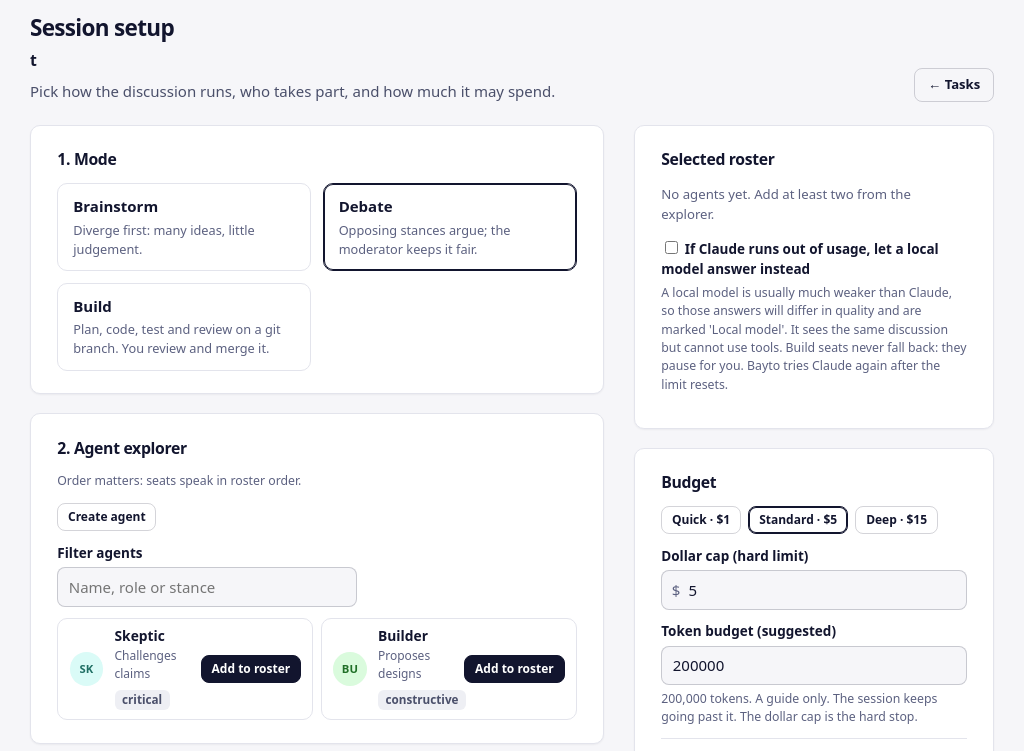
Test: SessionSetup in Build mode › seats the four build roles, hides discussion agents and raises the budget
Expected: the heading "Session setup" is shown, [30,12,174,43]
Expected: the text "Build architect" is not shown
Click the radio button labelled "Build".
click(184, 327)  # box [57,282,311,371]
(page scrolled)
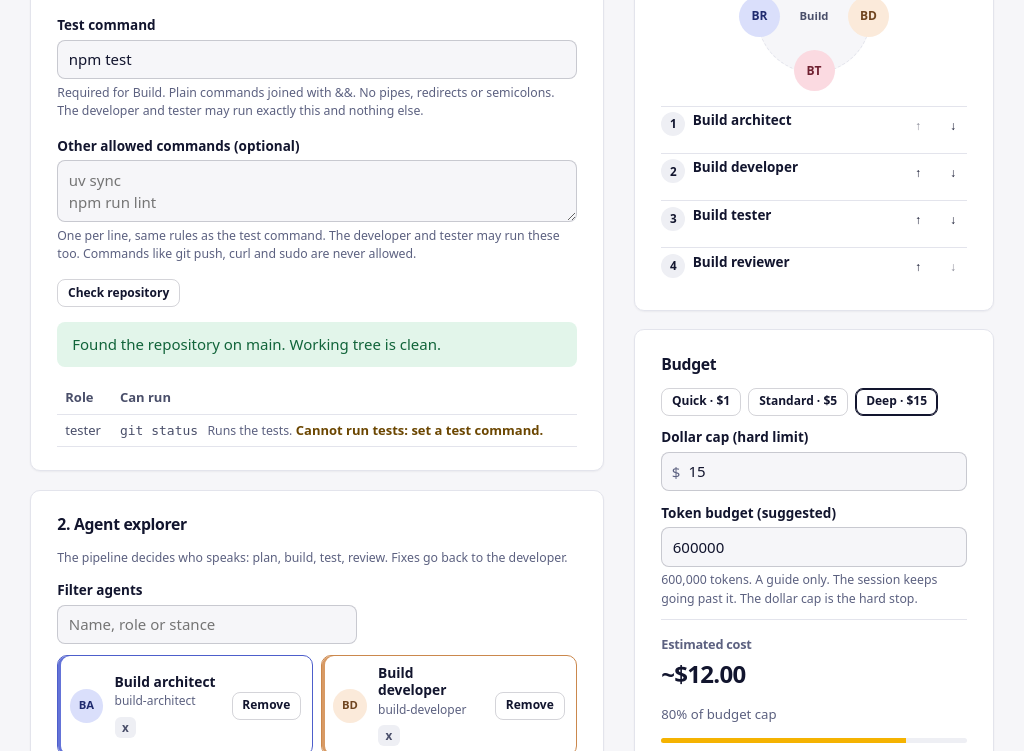
Expected: the text "Skeptic" is gone
Expected: the number field labelled "Dollar cap (hard limit)" holds "15", [661,452,967,491]
